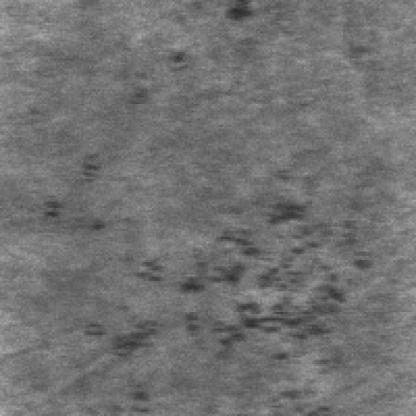rolled-in_scale: (104, 183, 370, 412)
